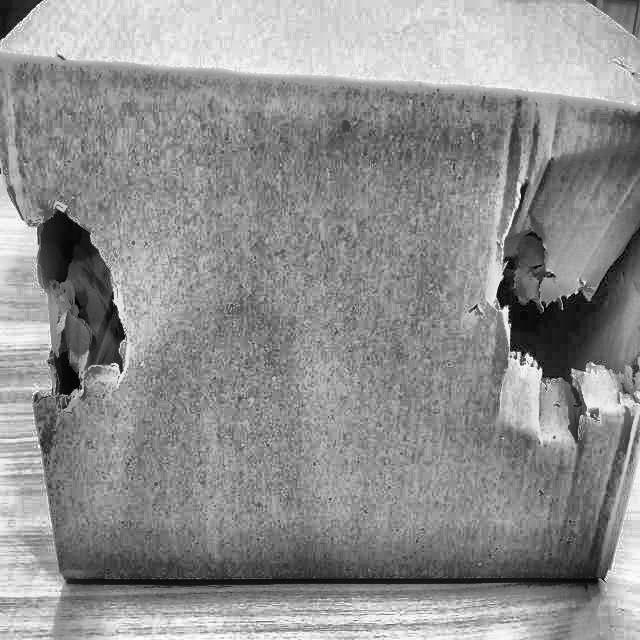box: (0, 0, 639, 605)
hole: (490, 131, 640, 446), (10, 188, 128, 424)
